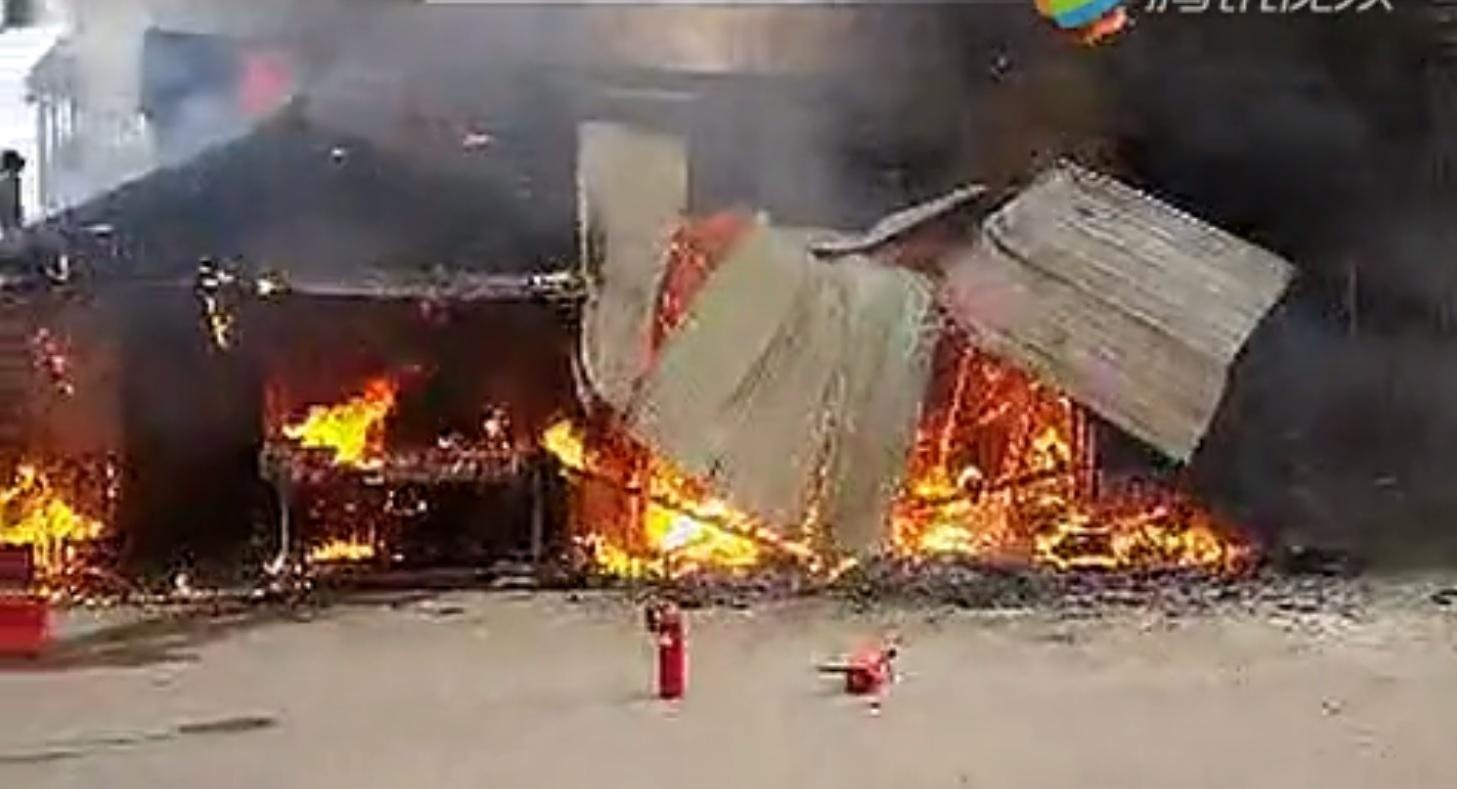fire: (880, 350, 1249, 581), (533, 406, 795, 577), (0, 447, 112, 602), (271, 372, 401, 468), (274, 524, 388, 577)
